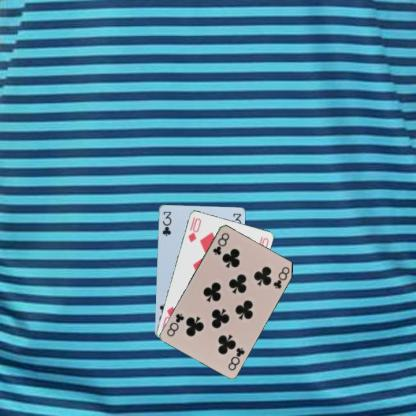10d: (186, 214, 202, 244)
3c: (159, 208, 173, 237)
8c: (210, 230, 230, 256), (226, 345, 246, 371)
